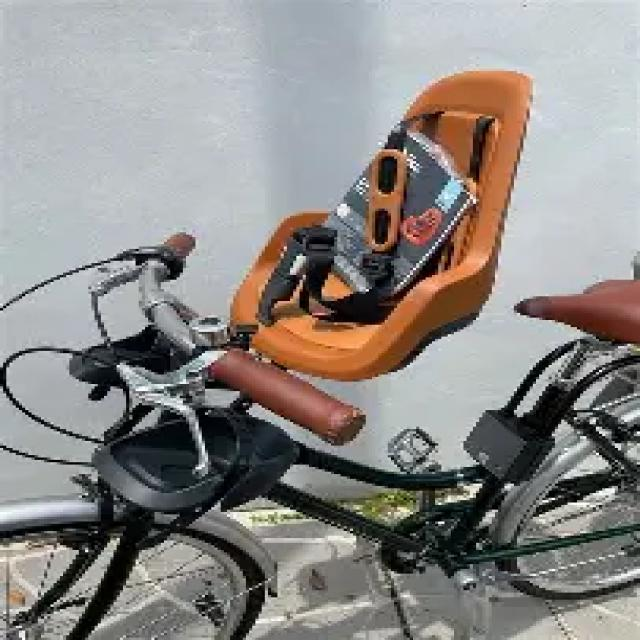childseat: (231, 66, 542, 368)
